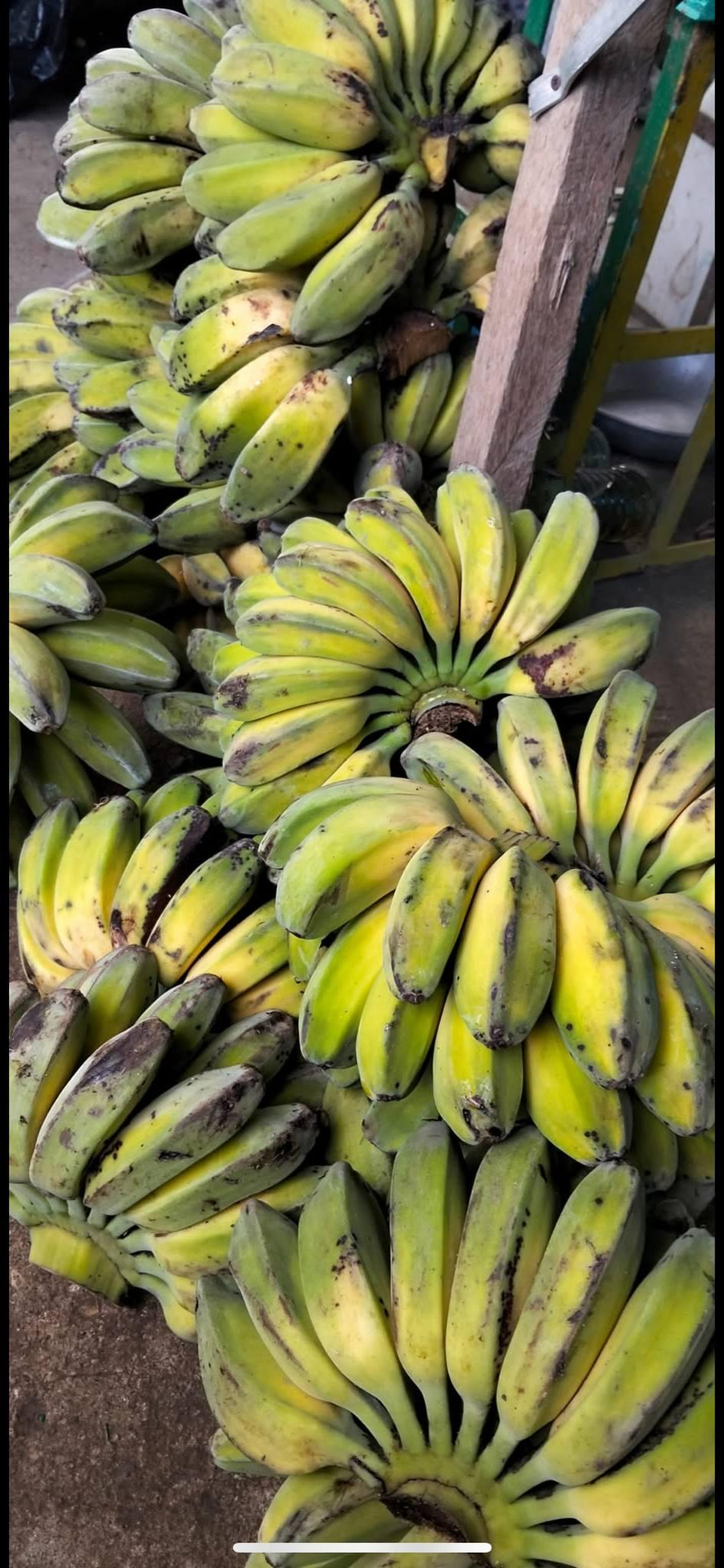underripe: (197, 1125, 713, 1567), (259, 778, 715, 1191), (213, 468, 657, 837), (182, 0, 536, 344), (10, 947, 332, 1279), (17, 775, 299, 1024), (402, 670, 715, 867), (9, 476, 179, 816), (147, 256, 349, 524), (37, 0, 230, 279), (54, 282, 194, 490), (10, 288, 96, 527), (348, 337, 479, 457)
